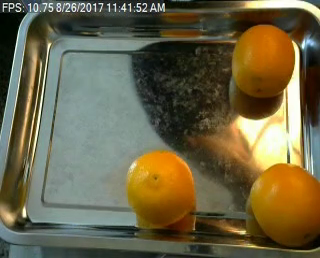Orange: (251, 164, 320, 247), (125, 150, 196, 228), (231, 23, 295, 95)
